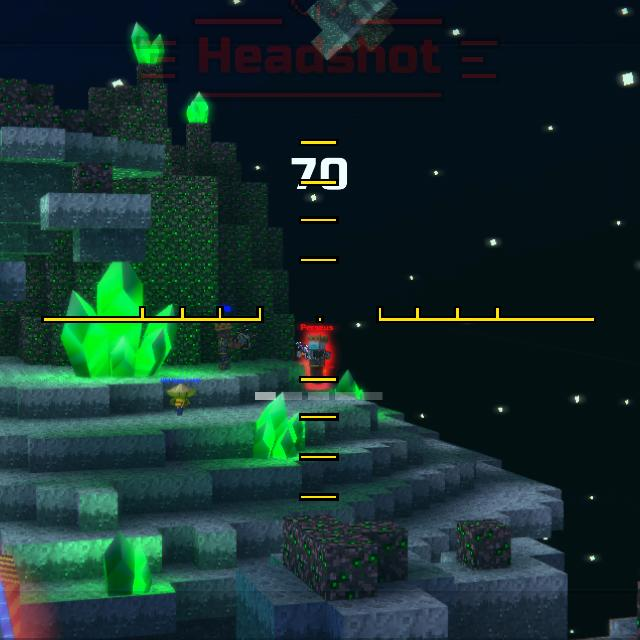Enemy: (301, 334, 331, 379)
